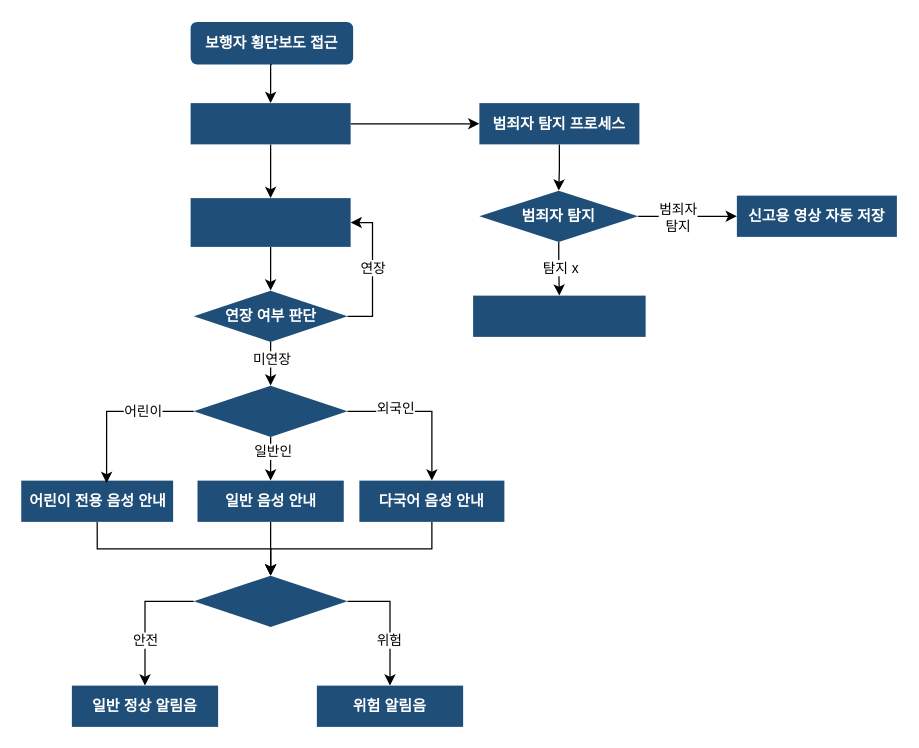
The diagram is 919 pixels wide and 748 high, and some of its shapes have lost their labels. The shapes that lost their labels are listed below. From the top down, each one's centre as x and y in pixels, then its label:
At [270,123]: "AI 카메라 및 센서 인식".
At [270,222]: "보행신호 연장 조건 자동 계산".
At [558,315]: "정상 프로세스 진행 (행동x)".
At [270,410]: "안내 조건 판단".
At [270,600]: "위험 상황 판단".
